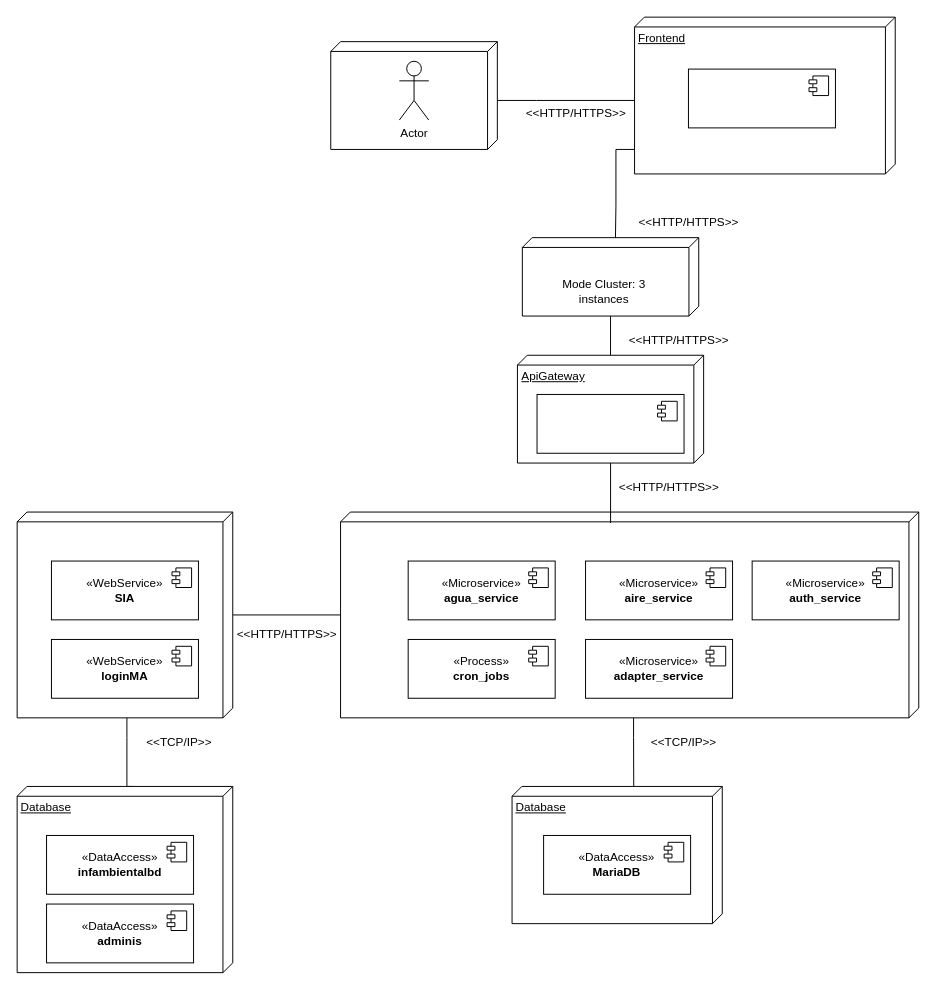
This 936x990 diagram has some shape labels left out. The shapes that lost their labels are listed below. From the top down, each one's box as (x1, y1, x2, y2) in pixels, then its label:
(330, 41, 497, 149): UserPC
(687, 68, 835, 128): «UI» Angular
(521, 237, 699, 316): Balanceador de carga PM2
(536, 393, 684, 453): «WebService» api_gateway
(16, 511, 233, 718): Backend- External
(340, 511, 919, 718): Backend - Private Zone
